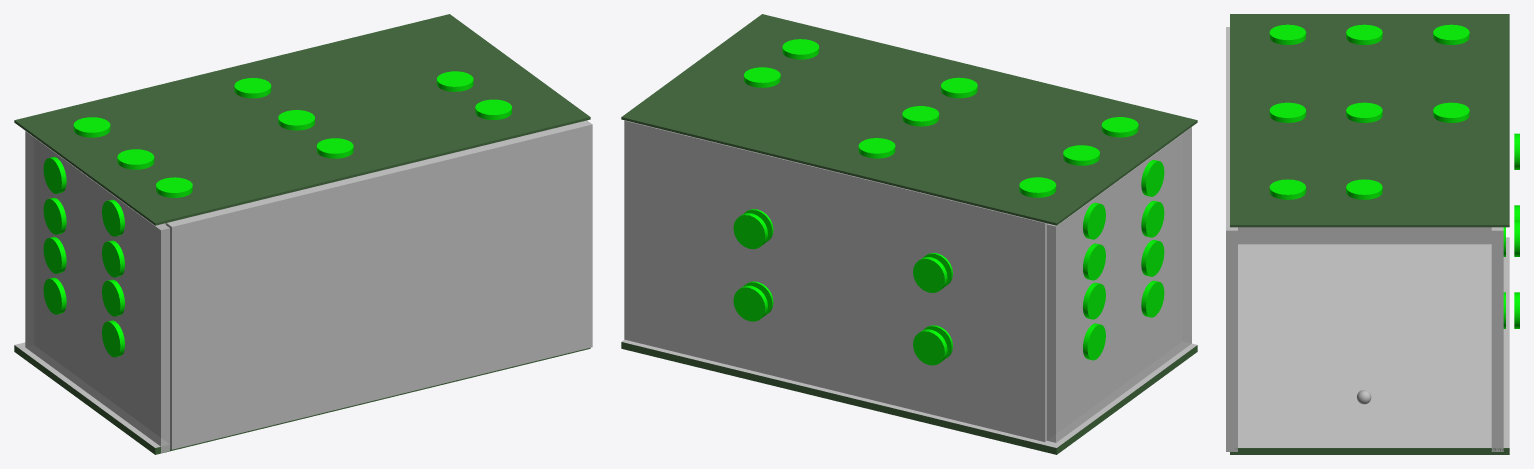
File: First_Floor_and_Menu.obj
3 views of the same model, side by side, from view 1: azimuth 30°, elevation 25°; view 2: azimuth 150°, elevation 25°; view 3: azimuth 270°, elevation 25° (orthographic).
Parts seen in each view (by area): view 1: Part38, Part32, Part11, Part35, Part36, Part3, Part4, Part1, Part2, Part9, Part13, Part7 (+9 smaller); view 2: Light1, Part32, Part11, Part35, Part36, Part18, Part41, Part48, Part17, Part8, Part13, Part7 (+13 smaller); view 3: Part32, Part36, Part12, Part38, Light1, Part35, Part50, Part51, Part29, Part15, Part27, Part28 (+2 smaller).
Boxes of the visible parts, x1,y1,x2,y2 form: Part38: [166, 120, 592, 449]; Part32: [14, 14, 590, 225]; Part11: [25, 131, 169, 452]; Part35: [14, 345, 590, 454]; Part36: [15, 342, 160, 447]; Part3: [43, 197, 66, 234]; Part4: [43, 277, 66, 314]; Part1: [43, 157, 66, 193]; Part2: [43, 237, 66, 273]; Part9: [102, 320, 124, 357]; Part13: [102, 240, 124, 277]; Part7: [102, 279, 124, 316]; Light1: [624, 120, 1047, 441]; Part32: [621, 14, 1197, 225]; Part11: [1047, 127, 1191, 442]; Part35: [621, 342, 1197, 454]; Part36: [621, 339, 1196, 447]; Part18: [913, 329, 947, 365]; Part41: [733, 285, 767, 321]; Part48: [733, 213, 767, 249]; Part17: [913, 257, 947, 292]; Part8: [1141, 160, 1164, 196]; Part13: [1141, 200, 1164, 237]; Part7: [1141, 240, 1164, 276]; Part32: [1230, 14, 1509, 227]; Part36: [1238, 237, 1509, 447]; Part12: [1238, 227, 1491, 244]; Part38: [1226, 27, 1237, 451]; Light1: [1491, 227, 1503, 451]; Part35: [1230, 448, 1509, 454]; Part50: [1269, 179, 1306, 199]; Part51: [1346, 179, 1382, 199]; Part29: [1269, 102, 1306, 122]; Part15: [1269, 24, 1306, 44]; Part27: [1433, 102, 1469, 122]; Part28: [1346, 102, 1382, 122].
Bounding box in the file's own units: 191 × 101 × 112.
